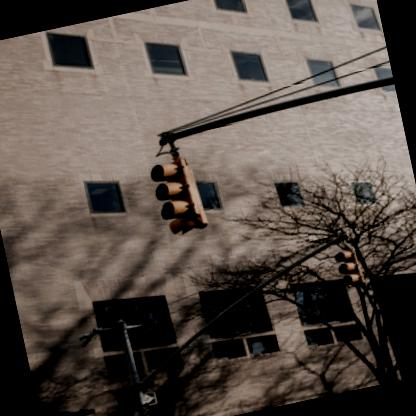trafficlight: (144, 152, 209, 236)
